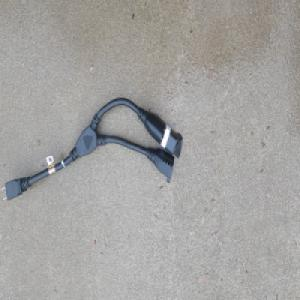Wire: (0, 95, 182, 202)
